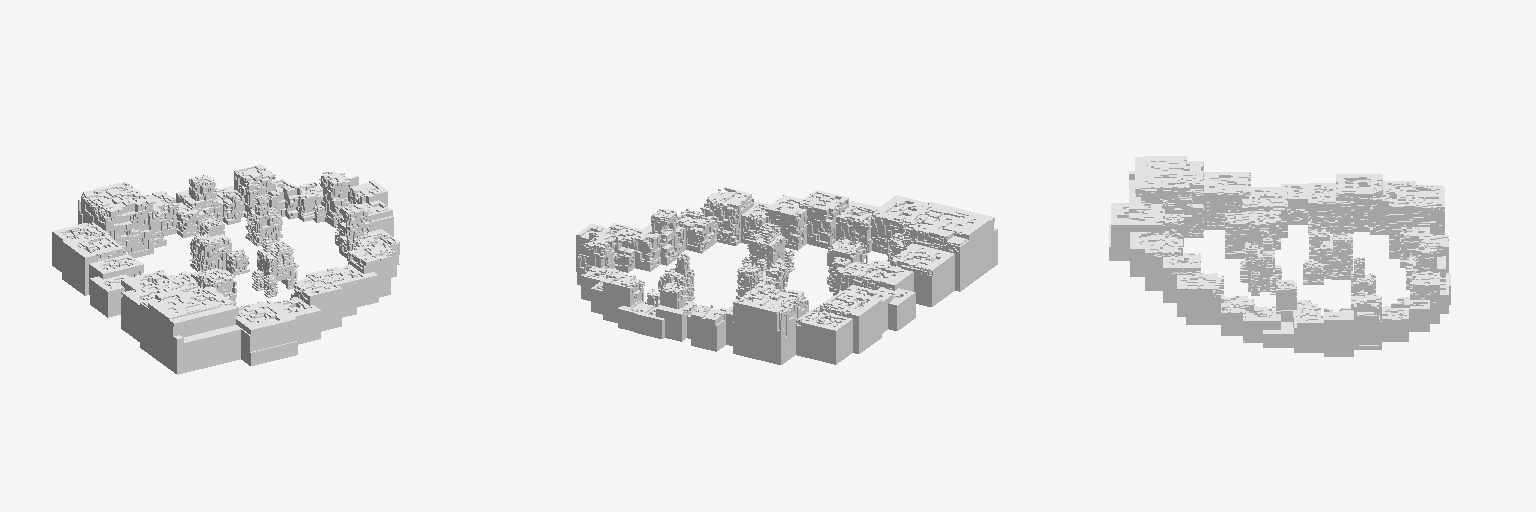
Rendered from Level1-1-1234578.obj.
3 views of the same model, side by side, from view 1: azimuth 30°, elevation 25°; view 2: azimuth 150°, elevation 25°; view 3: azimuth 270°, elevation 25° (orthographic).
Visible parts, largest first — view 1: [number redacted]; view 2: [number redacted]; view 3: [number redacted].
Part boxes in pixels (left/top/right/bottom): [number redacted]: left=52, top=164, right=399, bottom=374; [number redacted]: left=576, top=187, right=997, bottom=364; [number redacted]: left=1109, top=156, right=1450, bottom=356.
Bounding box in the file's own units: 23.7 × 3.8 × 22.7.